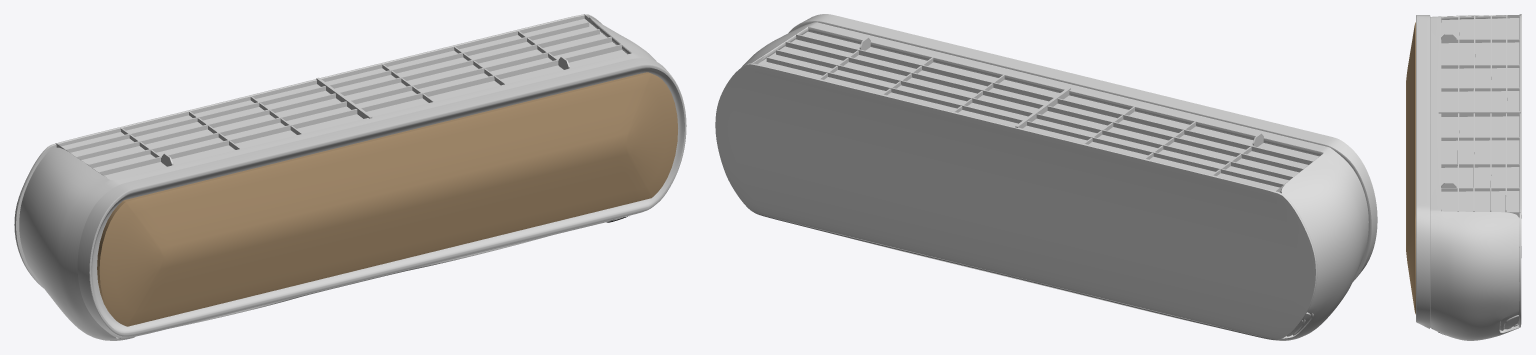
File: newac.glb
The picture shows the model from 3 angles, left to right: view 1: azimuth 30°, elevation 25°; view 2: azimuth 150°, elevation 25°; view 3: azimuth 270°, elevation 25°; orthographic projection. The views are drawn at different scales.
Visible parts, largest first — view 1: Cylinder.001, Cylinder.004; view 2: Cylinder.004; view 3: Cylinder.004, Cylinder.001.
Part boxes in pixels (x1=…): Cylinder.001: x1=97, y1=72, x2=677, y2=326; Cylinder.004: x1=14, y1=14, x2=686, y2=340; Cylinder.004: x1=715, y1=14, x2=1377, y2=340; Cylinder.004: x1=1416, y1=14, x2=1521, y2=340; Cylinder.001: x1=1406, y1=22, x2=1415, y2=314.
Bounding box in the file's own units: 0.902 × 0.2543 × 0.1911.
4 materials, 1 textured.
